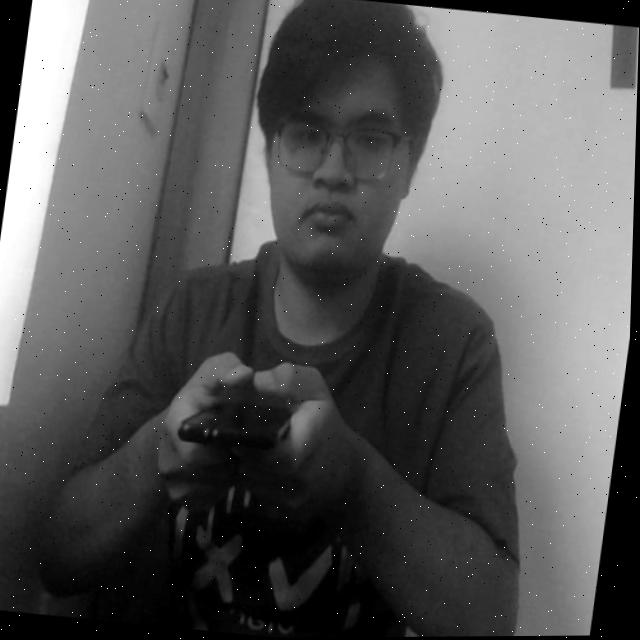phone: (161, 359, 331, 486)
